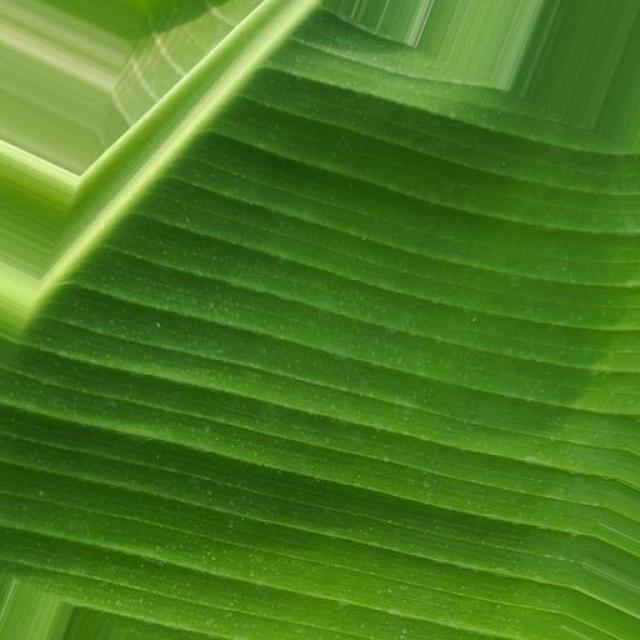Black_leaf_spot: (0, 34, 640, 577)
